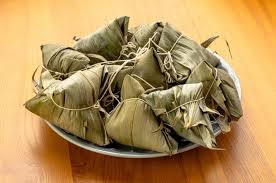zongzi: (25, 66, 109, 145), (105, 75, 177, 154), (142, 83, 218, 148), (154, 22, 218, 83), (105, 49, 165, 91), (186, 61, 228, 120), (74, 16, 128, 59), (119, 22, 163, 57), (41, 44, 91, 73)
